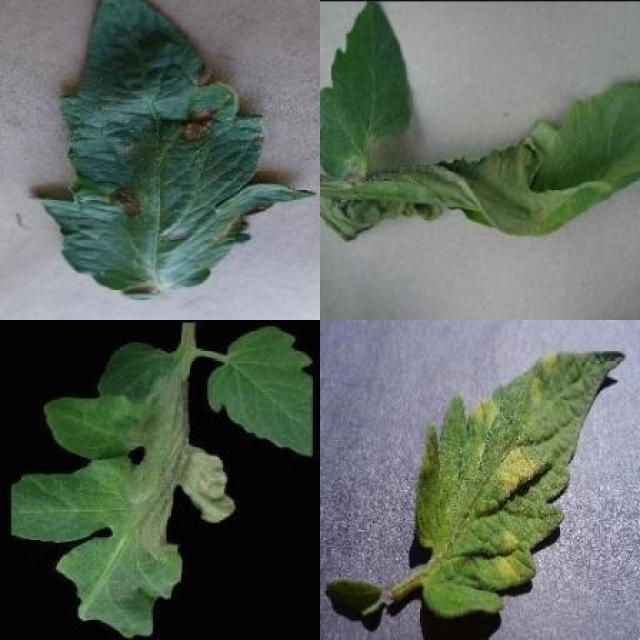Early Blight: (30, 1, 319, 302)
Healthy: (319, 0, 414, 176), (205, 327, 312, 457)
Late Blight: (13, 343, 236, 640), (320, 80, 640, 240)
Leaf Mold: (416, 350, 625, 617)
